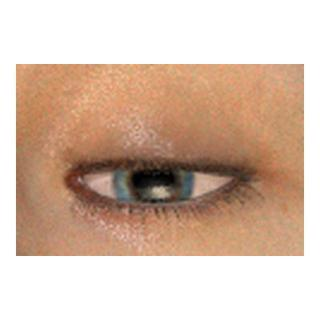pupil: (132, 159, 175, 201)
